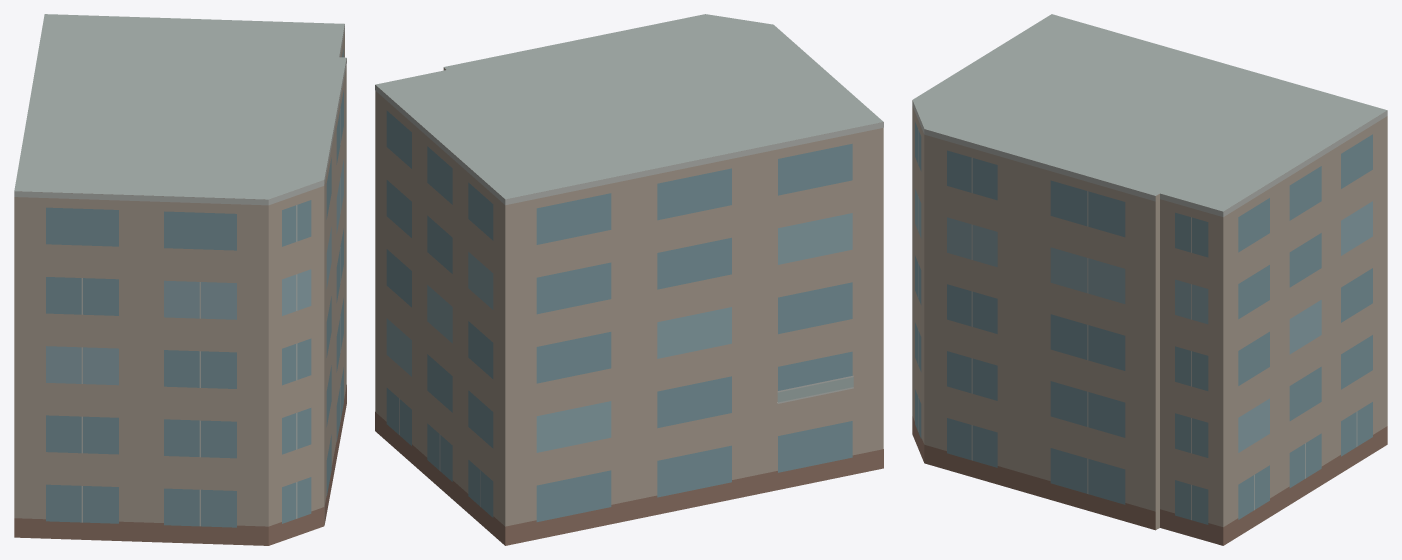
File: survey-upis-32757683.glb
The picture shows the model from 3 angles, left to right: view 1: azimuth 30°, elevation 25°; view 2: azimuth 150°, elevation 25°; view 3: azimuth 270°, elevation 25°; orthographic projection. The views are drawn at different scales.
Parts seen in each view (by area): view 1: survey-upis-32757683.tmp; view 2: survey-upis-32757683.tmp; view 3: survey-upis-32757683.tmp.
Boxes of the visible parts, x1,y1,x2,y2 form: survey-upis-32757683.tmp: [14, 14, 346, 545]; survey-upis-32757683.tmp: [375, 14, 883, 545]; survey-upis-32757683.tmp: [912, 14, 1387, 545].
Bounding box in the file's own units: 18.39 × 14.5 × 18.69.
